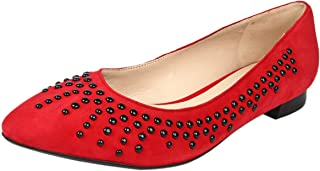shoes: (1, 1, 319, 167)
